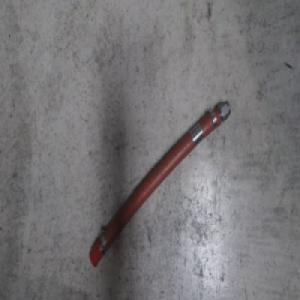Hose: (87, 98, 232, 270)
